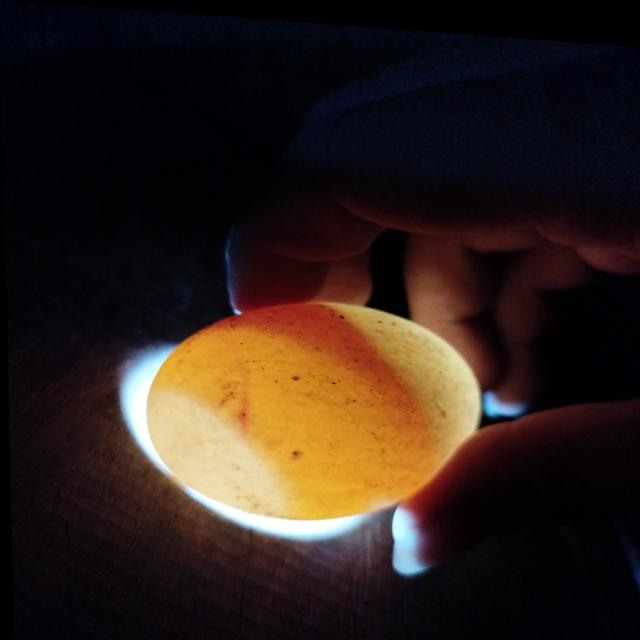Camara de Ar: (145, 390, 285, 514)
